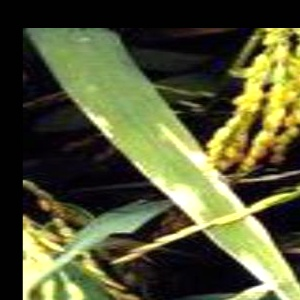Leaf_Blast: (210, 200, 300, 300)
